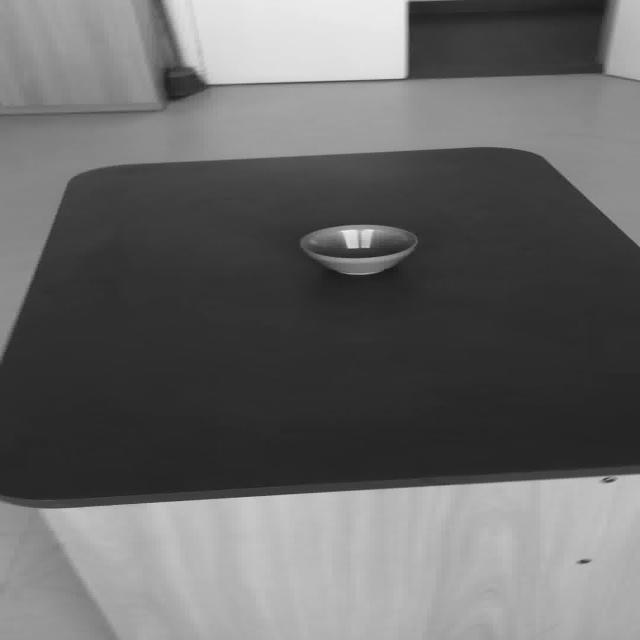bowl: (298, 223, 417, 275)
